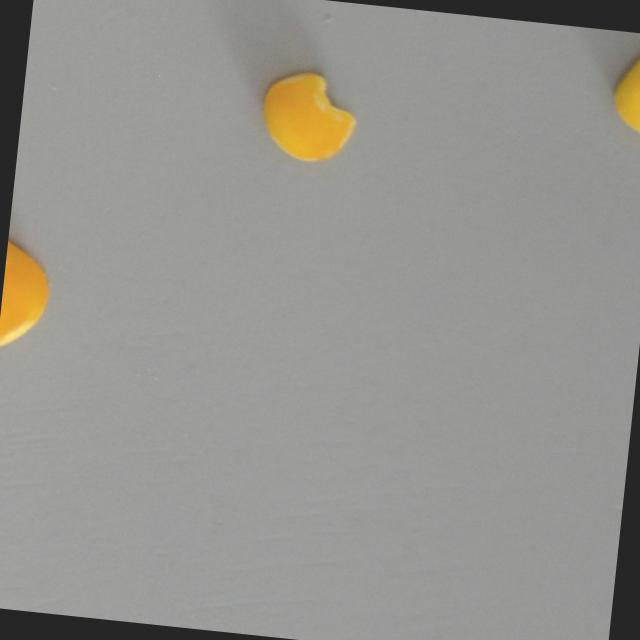no_canjicado: (249, 62, 363, 171), (0, 228, 56, 354)
